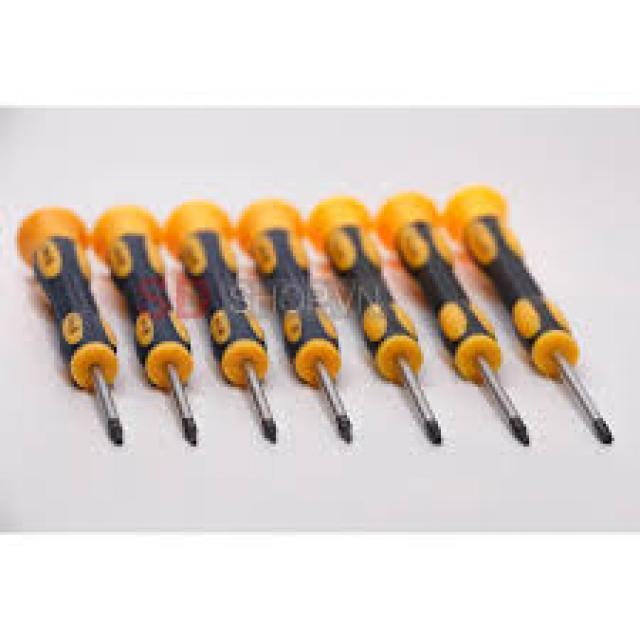screwdriver: (436, 179, 622, 447), (378, 189, 526, 451), (302, 186, 442, 448), (234, 193, 360, 450), (162, 193, 282, 450), (88, 202, 199, 449), (14, 204, 125, 446)
